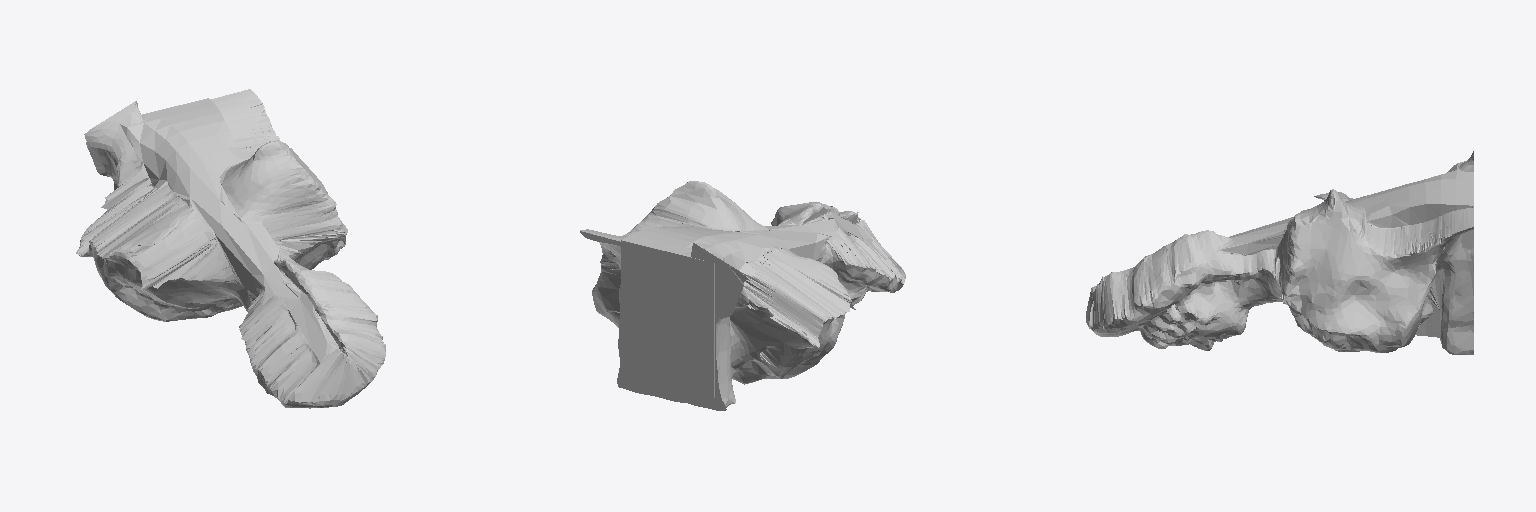
File: 73192-statue_QEM_90pct.obj
3 renders of one model, left to right at view 1: azimuth 30°, elevation 25°; view 2: azimuth 150°, elevation 25°; view 3: azimuth 270°, elevation 25°, orthographic.
Size of the model in its own units: 0.7001 by 0.5117 by 1.